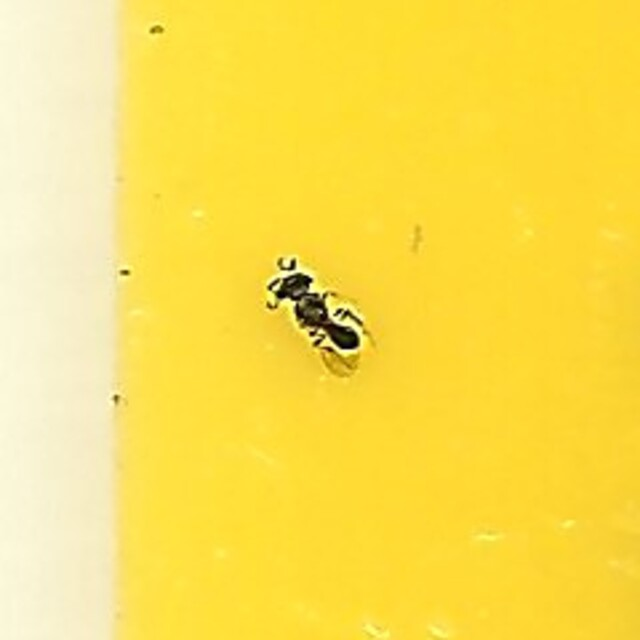Hymenoptera: (267, 255, 373, 385)
